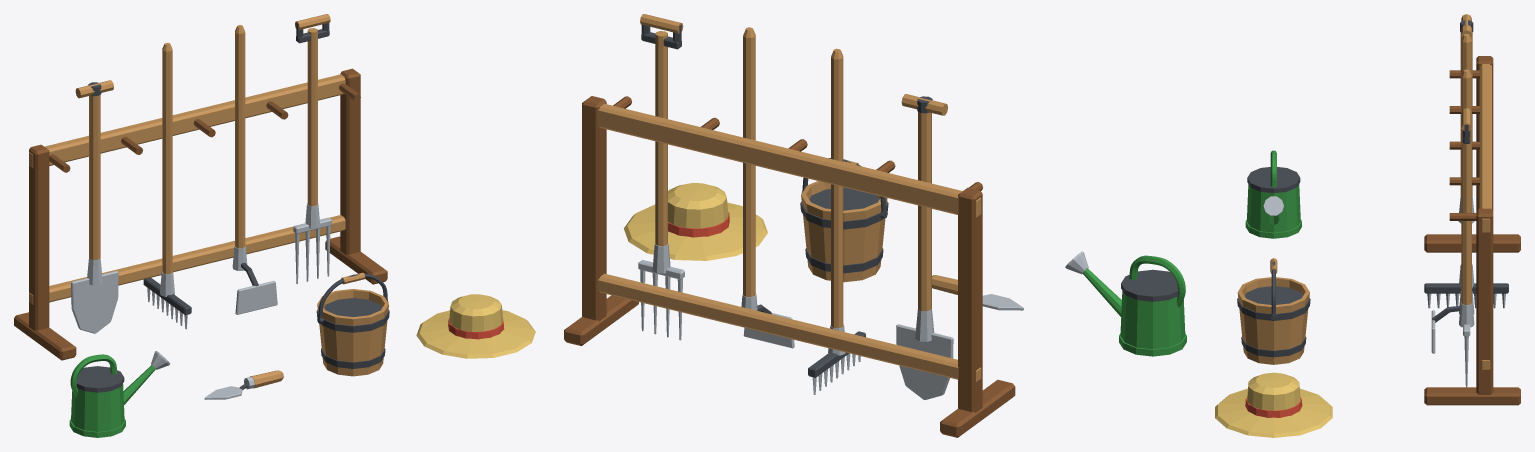
Rendered from low-poly-farm-tools.glb.
3 views of the same model, side by side, from view 1: azimuth 30°, elevation 25°; view 2: azimuth 150°, elevation 25°; view 3: azimuth 270°, elevation 25° (orthographic). The views are drawn at different scales.
Parts seen in each view (by area): view 1: ToolRack, Bucket, StrawHat, Shovel, WateringCan, Hoe, Pitchfork, Rake, Trowel; view 2: ToolRack, StrawHat, WateringCan, Bucket, Shovel, Pitchfork, Rake, Hoe, Trowel; view 3: ToolRack, Bucket, StrawHat, WateringCan, Pitchfork, Rake, Hoe, Shovel.
Boxes of the visible parts, x1=… form: ToolRack: x1=14, y1=68, x2=387, y2=360; Bucket: x1=316, y1=272, x2=389, y2=376; StrawHat: x1=416, y1=294, x2=535, y2=358; Shovel: x1=71, y1=80, x2=118, y2=333; WateringCan: x1=69, y1=351, x2=170, y2=437; Hoe: x1=232, y1=25, x2=277, y2=314; Pitchfork: x1=293, y1=14, x2=331, y2=284; Rake: x1=143, y1=43, x2=191, y2=329; Trowel: x1=204, y1=370, x2=283, y2=399; ToolRack: x1=564, y1=96, x2=1015, y2=437; StrawHat: x1=624, y1=183, x2=767, y2=260; WateringCan: x1=1065, y1=251, x2=1186, y2=356; Bucket: x1=800, y1=158, x2=888, y2=282; Shovel: x1=896, y1=94, x2=953, y2=399; Pitchfork: x1=638, y1=14, x2=684, y2=340; Rake: x1=808, y1=48, x2=865, y2=394; Hoe: x1=741, y1=27, x2=794, y2=348; Trowel: x1=932, y1=275, x2=1023, y2=310; ToolRack: x1=1424, y1=56, x2=1520, y2=405; Bucket: x1=1237, y1=258, x2=1310, y2=364; StrawHat: x1=1215, y1=372, x2=1332, y2=437; WateringCan: x1=1245, y1=150, x2=1301, y2=238; Pitchfork: x1=1459, y1=108, x2=1474, y2=387; Rake: x1=1424, y1=33, x2=1508, y2=308; Hoe: x1=1431, y1=69, x2=1474, y2=353; Shovel: x1=1458, y1=14, x2=1474, y2=223.
Bounding box in the file's own units: 8.8 × 5 × 5.07.
